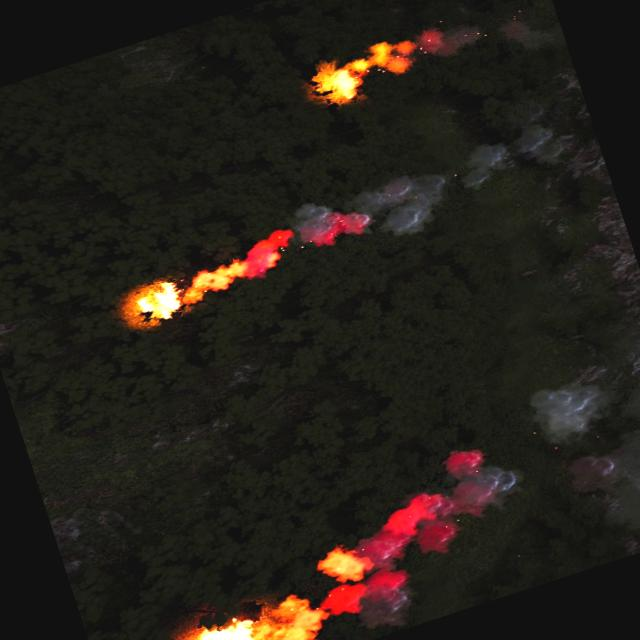fire: (167, 582, 333, 640), (306, 34, 410, 109), (126, 276, 190, 330), (312, 540, 376, 592)
smoke: (175, 118, 582, 316), (269, 432, 559, 640), (376, 0, 565, 95), (522, 370, 618, 450), (393, 11, 487, 71)
